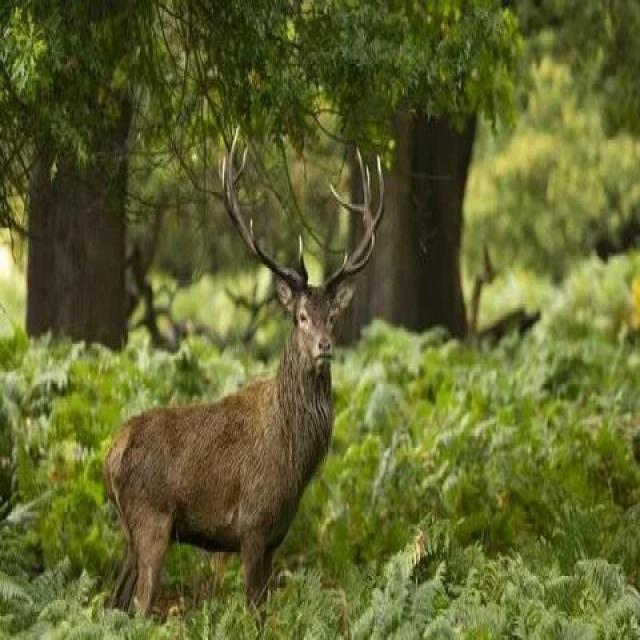deer: (91, 157, 418, 595)
